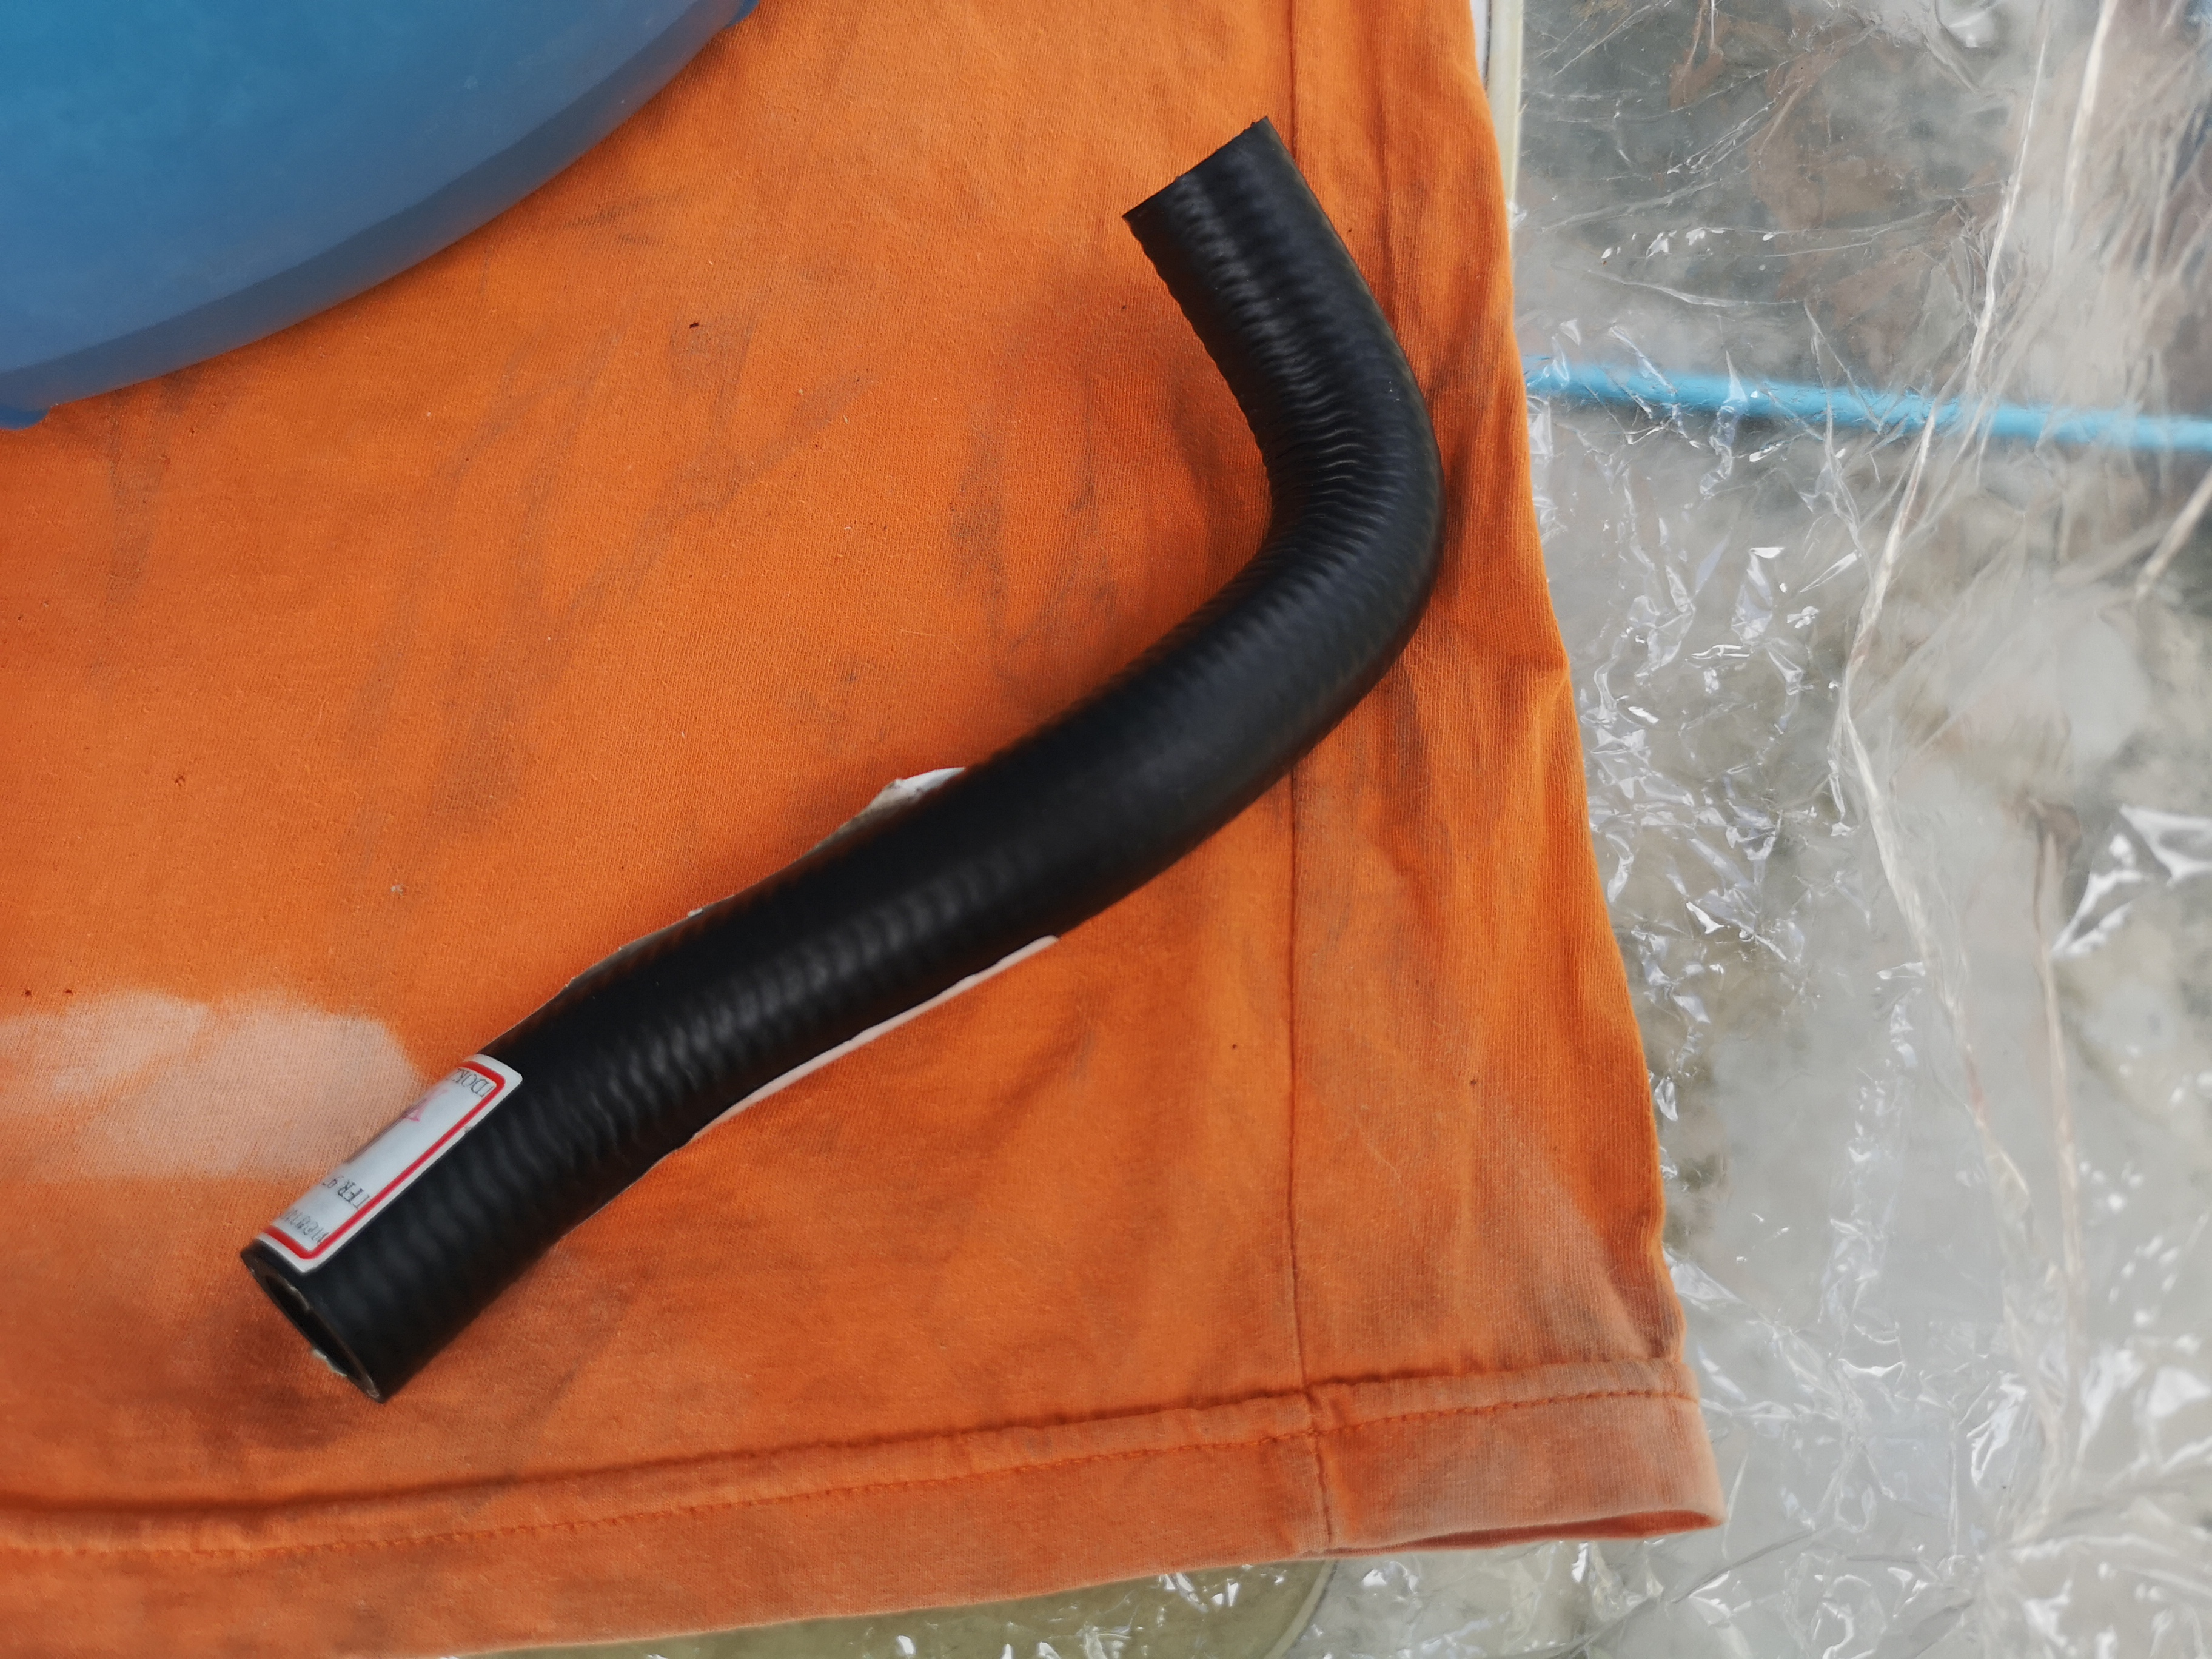ท่อยางน้ำมันเลี้ยงเทอร์โบ: (242, 78, 1487, 1476)
